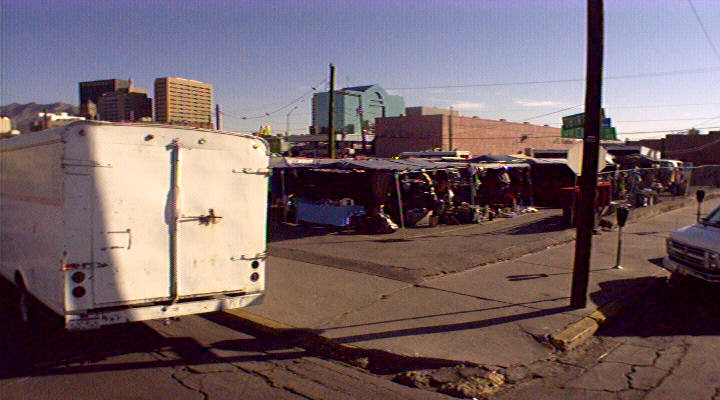Ramp: (458, 306, 588, 390)
